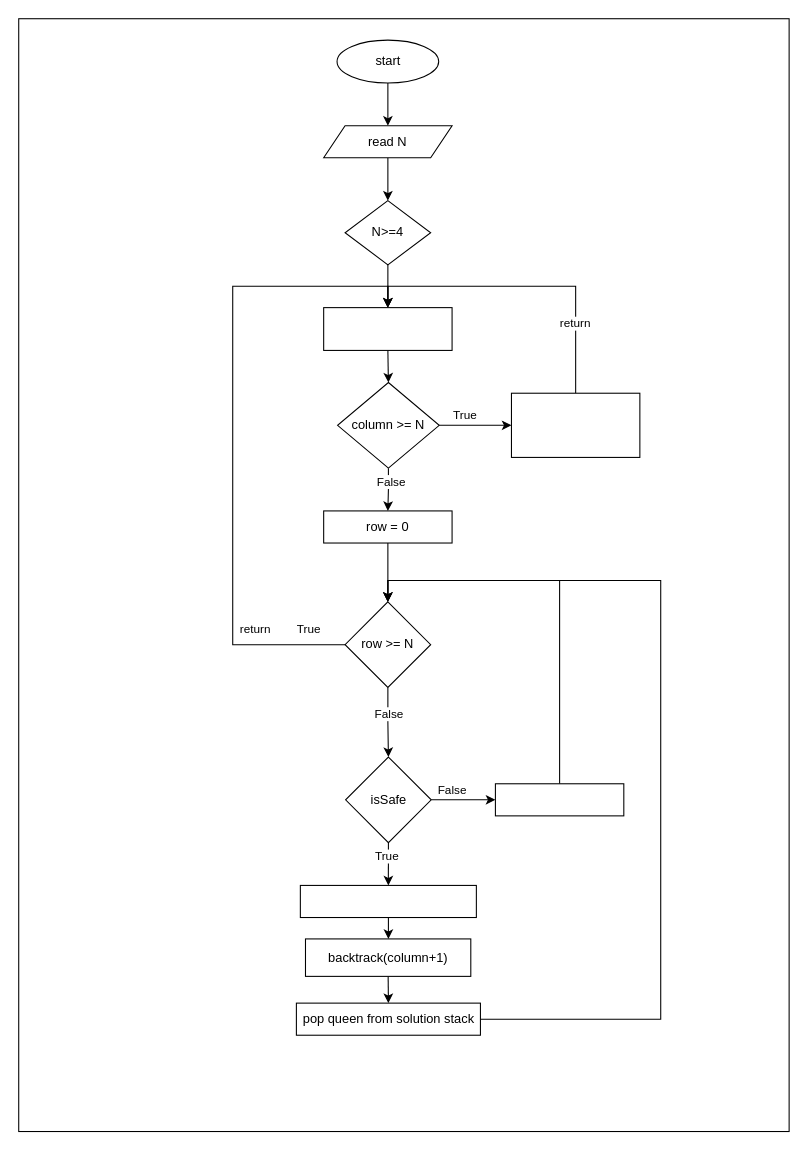
Image size: 808x1150. Some labels were removed from this diagram. Each missing label, with the box of its shape:
add queen to solution stack: (299, 884, 476, 918)
backtrack(n): (323, 307, 452, 350)
copy stack into solution list: (510, 392, 640, 457)
row +1: (494, 783, 624, 816)
